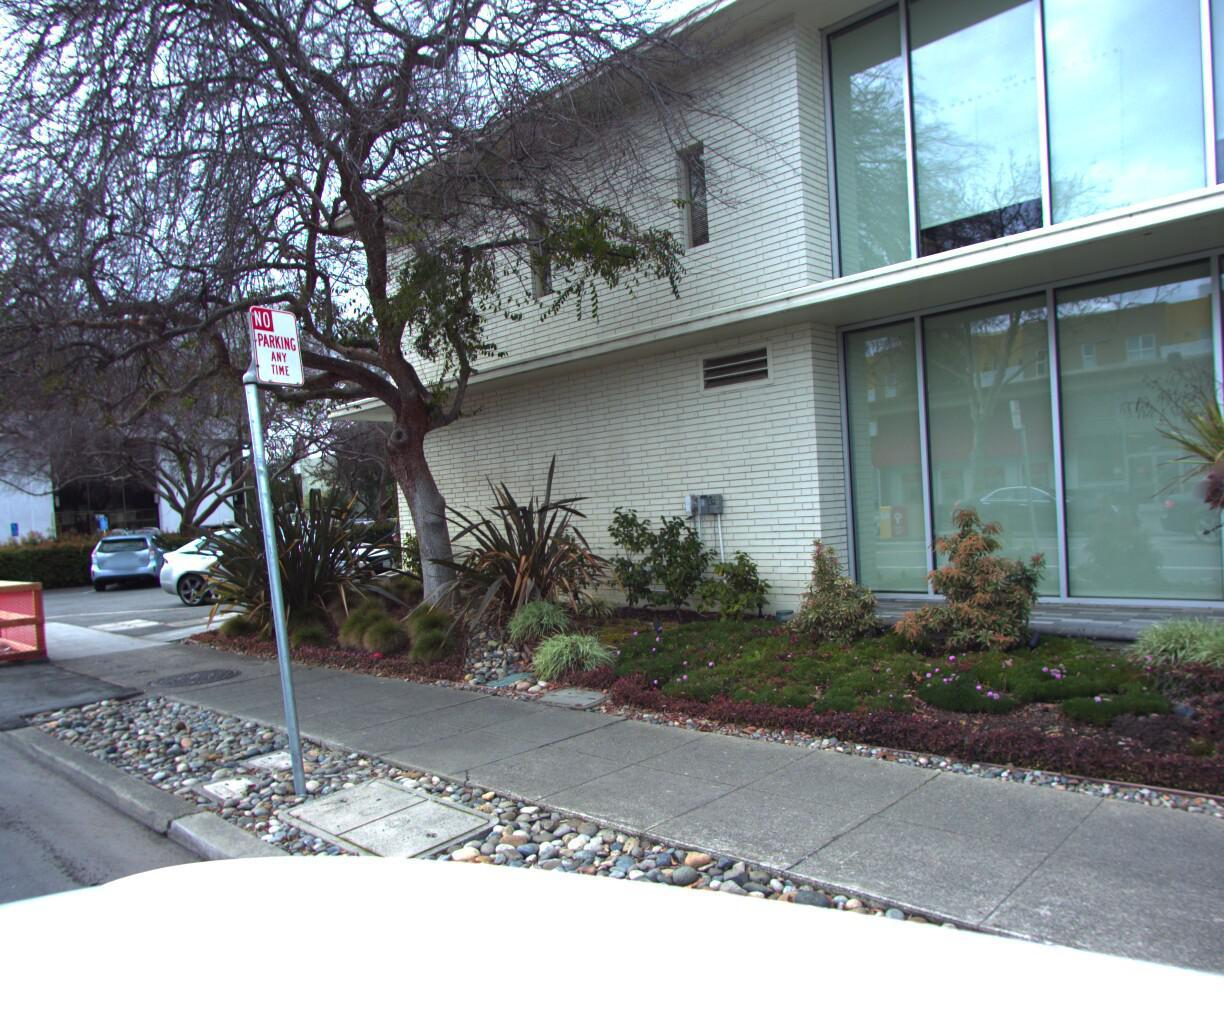car: (140, 507, 417, 608), (87, 523, 189, 590)
